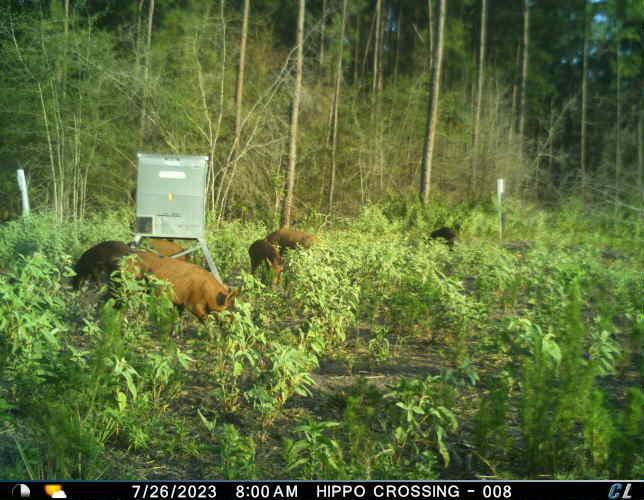Hog: (127, 249, 239, 320), (71, 238, 129, 291), (247, 237, 289, 289), (262, 228, 317, 248)
